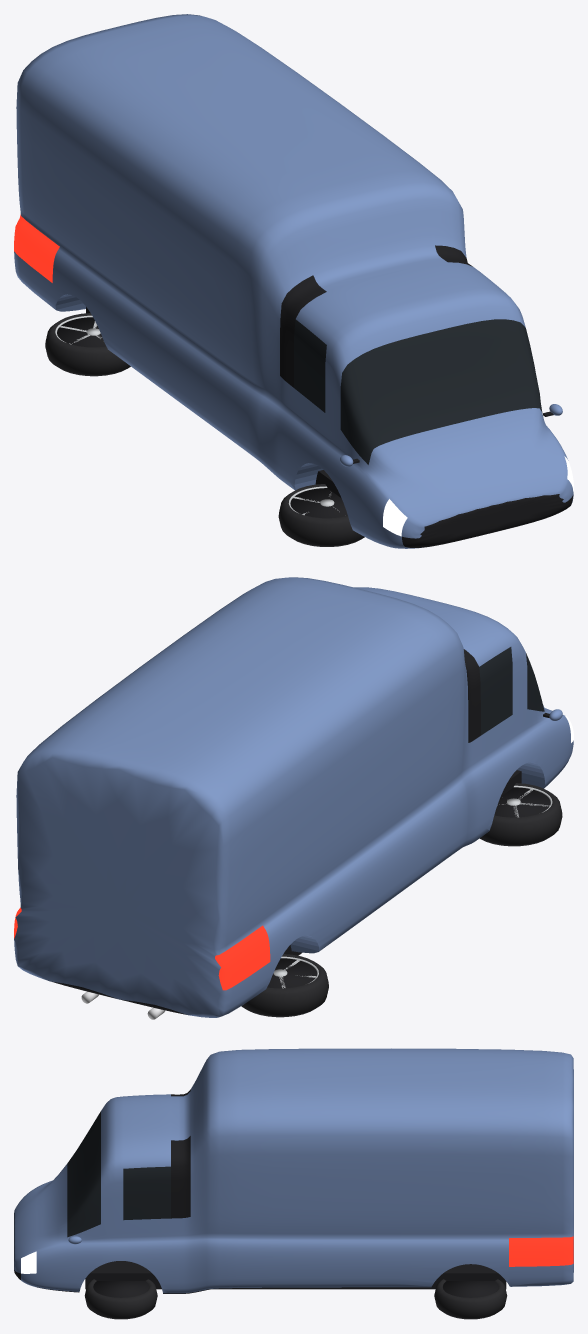
The model's file is traffic_truck.glb.
3 views of the same model, one above another, from view 1: azimuth 30°, elevation 25°; view 2: azimuth 150°, elevation 25°; view 3: azimuth 270°, elevation 25° (orthographic). The views are drawn at different scales.
Parts seen in each view (by area): view 1: Body, WheelMesh_Wheel_Front_R, WheelMesh_Wheel_Rear_R; view 2: Body, WheelMesh_Wheel_Front_R, WheelMesh_Wheel_Rear_R; view 3: Body, WheelMesh_Wheel_Front_L, WheelMesh_Wheel_Rear_L.
Part boxes in pixels (<box>): Body: <box>14,14,573,548</box>; WheelMesh_Wheel_Front_R: <box>278,484,364,546</box>; WheelMesh_Wheel_Rear_R: <box>45,313,130,376</box>; Body: <box>14,577,573,1019</box>; WheelMesh_Wheel_Front_R: <box>479,783,562,846</box>; WheelMesh_Wheel_Rear_R: <box>241,954,328,1017</box>; Body: <box>14,1048,573,1293</box>; WheelMesh_Wheel_Front_L: <box>84,1279,157,1319</box>; WheelMesh_Wheel_Rear_L: <box>434,1279,507,1319</box>.
Size of the model in its own units: 2.95 by 2.79 by 7.05.
